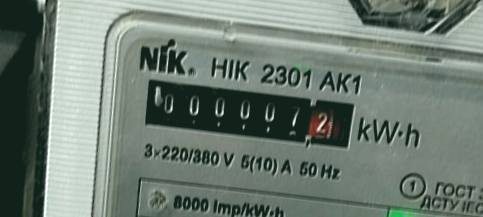0: (163, 90, 180, 116), (239, 97, 256, 122), (264, 100, 280, 124), (215, 95, 230, 120), (189, 94, 204, 117)
2: (316, 111, 332, 135)
7: (290, 103, 305, 129)
screen: (134, 66, 368, 161)
